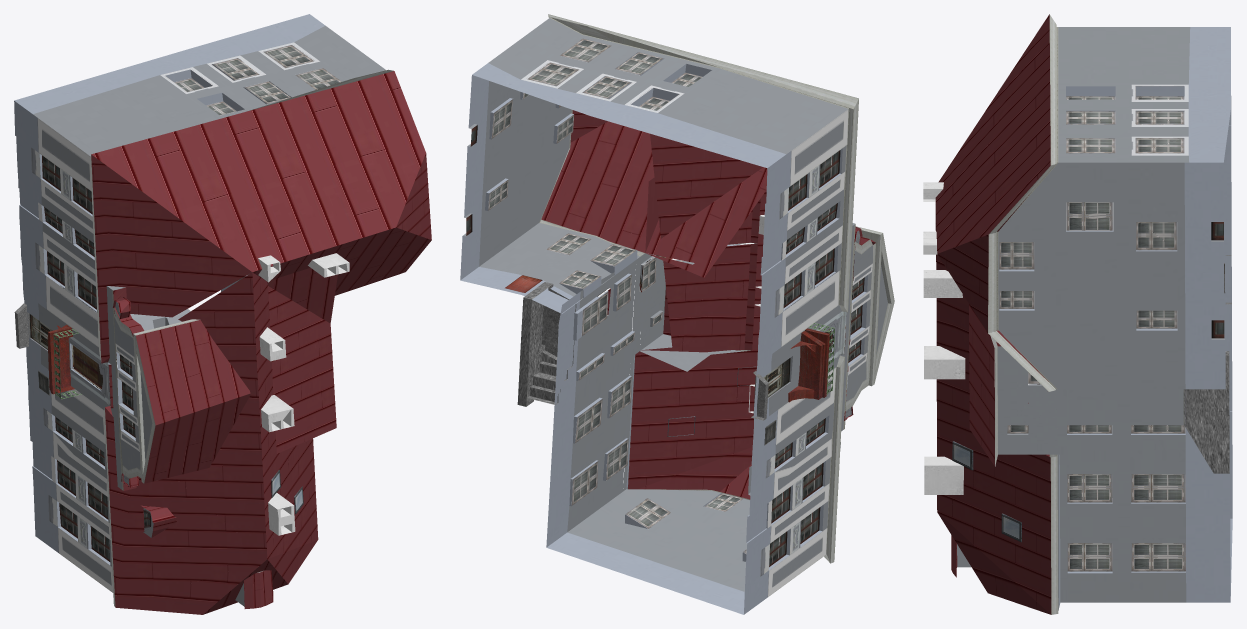
The model's file is Uus10-origo.obj.
The picture shows the model from 3 angles, left to right: view 1: azimuth 30°, elevation 25°; view 2: azimuth 150°, elevation 25°; view 3: azimuth 270°, elevation 25°; orthographic projection. The views are drawn at different scales.
Visible parts, largest first — view 1: Uus_10; view 2: Uus_10; view 3: Uus_10.
Boxes of the visible parts, x1,y1,x2,y2 form: Uus_10: (14, 14, 431, 614); Uus_10: (460, 14, 894, 614); Uus_10: (923, 14, 1232, 614).
Bounding box in the file's own units: 19 × 26.5 × 14.61.
